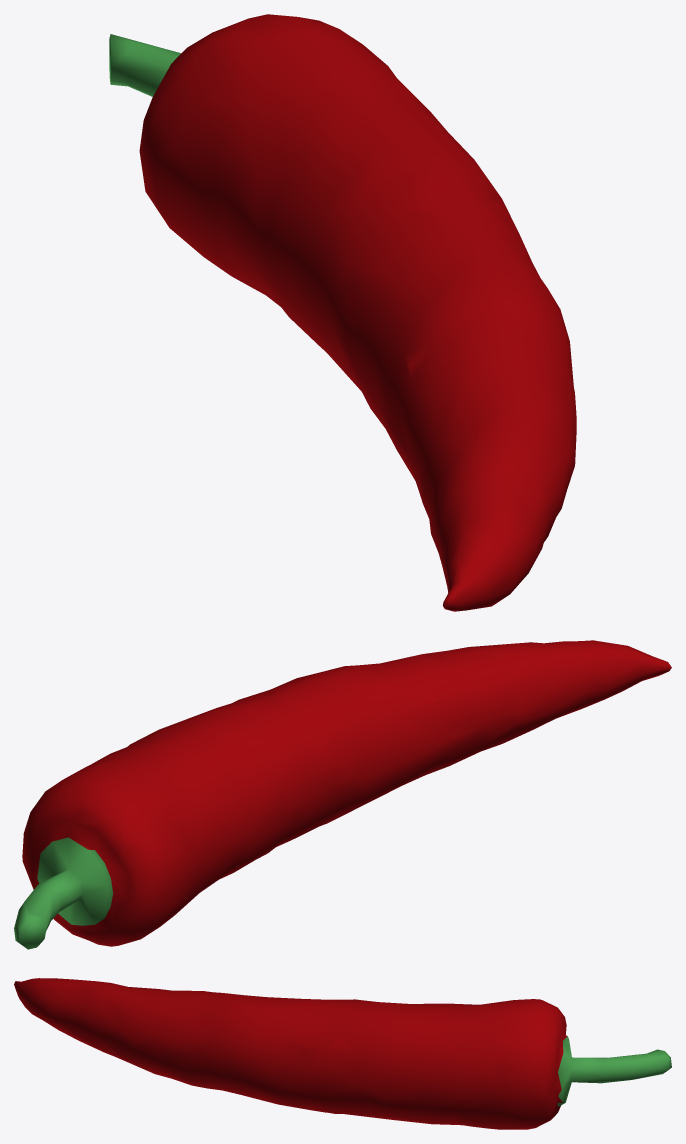
File: lajiao.fbx
3 views of the same model, one above another, from view 1: azimuth 30°, elevation 25°; view 2: azimuth 150°, elevation 25°; view 3: azimuth 270°, elevation 25° (orthographic). The views are drawn at different scales.
Visible parts, largest first — view 1: Cylinder027; view 2: Cylinder027; view 3: Cylinder027.
Part boxes in pixels (x1,y1,x2,y2): Cylinder027: (109, 14, 576, 611); Cylinder027: (14, 640, 671, 949); Cylinder027: (14, 978, 671, 1129).
Size of the model in its own units: 58.35 by 29.49 by 146.
